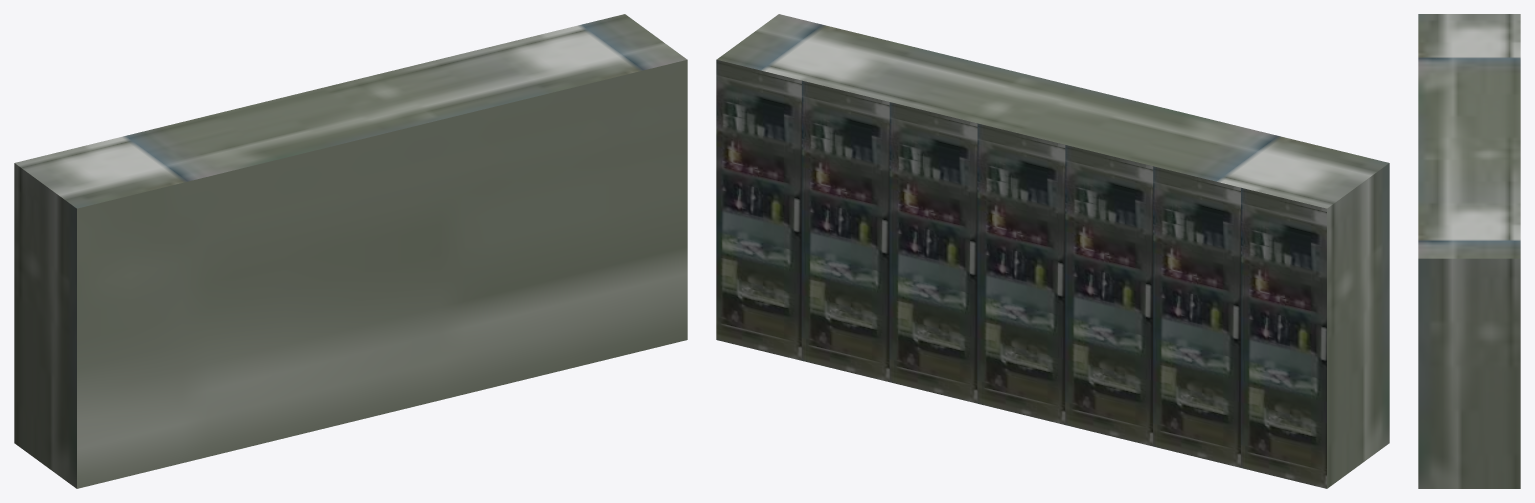
The model's file is large_alcohol_cooler.glb.
3 views of the same model, side by side, from view 1: azimuth 30°, elevation 25°; view 2: azimuth 150°, elevation 25°; view 3: azimuth 270°, elevation 25° (orthographic). The views are drawn at different scales.
Parts seen in each view (by area): view 1: Librero.016; view 2: Librero.016; view 3: Librero.016.
Part boxes in pixels (x1=…): Librero.016: x1=14, y1=14, x2=687, y2=488; Librero.016: x1=716, y1=14, x2=1389, y2=488; Librero.016: x1=1418, y1=14, x2=1520, y2=488.
Bounding box in the file's own units: 6.54 × 2.87 × 1.16.
1 material, 1 textured.
